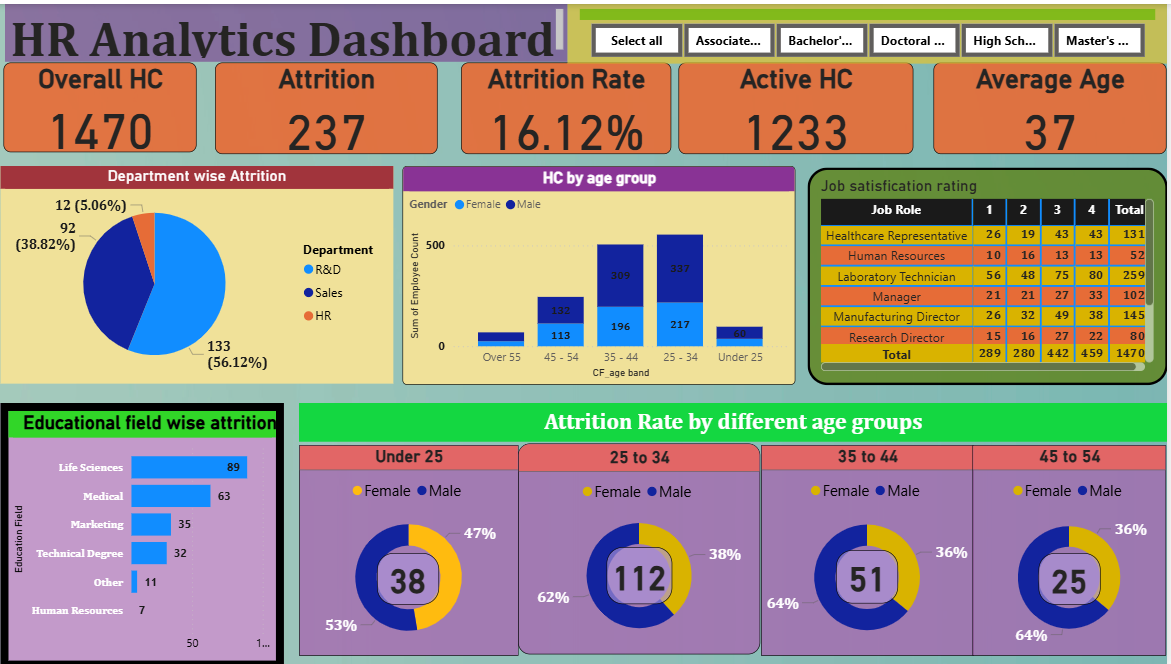

The page's visual inventory and layout, read from the dashboard file:
{"tool":"powerbi","page":{"name":"Page 1","canvas":[1280,720],"ordinal":0},"visuals":[{"type":"card","title":"Overall HC","fields":{"Values":["Sum(HR data.Employee Count)"]},"box":[18.7,63.6,209.5,97.3],"z":0},{"type":"card","title":"Attrition","fields":{"Values":["Sum(HR data.Attrition columns)"]},"box":[246.9,63.6,241.3,99.1],"z":1000},{"type":"card","title":"Attrition Rate","fields":{"Values":["HR data.Attrition %"]},"box":[514.4,63.6,228.2,99.1],"z":2000},{"type":"card","title":"Active HC","fields":{"Values":["HR data.Active employees"]},"box":[750,63.6,254.4,99.1],"z":3000},{"type":"card","title":"Average Age","fields":{"Values":["Avg(HR data.Age)"]},"box":[1026.9,63.6,252.5,99.1],"z":4000},{"type":"pieChart","title":"Department wise Attrition","fields":{"Y":["Sum(HR data.Attrition columns)"],"Category":["HR data.Department"]},"box":[14.6,175.7,426.2,235.8],"z":5000},{"type":"columnChart","title":"HC by age group","fields":{"Category":["HR data.CF_age band"],"Y":["Sum(HR data.Employee Count)"],"Series":["HR data.Gender"]},"box":[450.6,175.7,426.2,237.5],"z":6000},{"type":"pivotTable","title":"Job satisfication rating","fields":{"Columns":["HR data.Job Satisfaction"],"Rows":["HR data.Job Role"],"Values":["Sum(HR data.Employee Count)"]},"box":[889.7,177.3,390.4,235.8],"z":7000},{"type":"barChart","title":"Educational field wise attrition","fields":{"Category":["HR data.Education Field"],"Y":["Sum(HR data.Attrition columns)"]},"box":[14.6,432.7,307.4,287.9],"z":8000},{"type":"donutChart","title":"Under 25","fields":{"Category":["HR data.Gender"],"Y":["Sum(HR data.Attrition columns)"],"Series":["HR data.CF_age band"]},"box":[337.7,478.4,238.2,228.9],"z":9000},{"type":"textbox","box":[338.3,432.7,941.8,42.3],"z":10000},{"type":"donutChart","title":"25 to 34","fields":{"Category":["HR data.Gender"],"Y":["Sum(HR data.Attrition columns)"],"Series":["HR data.CF_age band"]},"box":[575.9,476.5,262.6,228.9],"z":11000},{"type":"donutChart","title":"35 to 44","fields":{"Category":["HR data.Gender"],"Y":["Sum(HR data.Attrition columns)"],"Series":["HR data.CF_age band"]},"box":[838.5,478.4,230.7,228.9],"z":12000},{"type":"donutChart","title":"45 to 54","fields":{"Category":["HR data.Gender"],"Y":["Sum(HR data.Attrition columns)"],"Series":["HR data.CF_age band"]},"box":[1069.3,478.4,210.1,228.9],"z":13000},{"type":"card","fields":{"Values":["Sum(HR data.Attrition columns)"]},"box":[422.7,594.8,67.3,56.1],"z":14000},{"type":"card","fields":{"Values":["Sum(HR data.Attrition columns)"]},"box":[671.5,589.2,71.1,61.7],"z":15000},{"type":"card","fields":{"Values":["Sum(HR data.Attrition columns)"]},"box":[920.8,592.1,67.2,57.9],"z":16000},{"type":"card","fields":{"Values":["Sum(HR data.Attrition columns)"]},"box":[1141,594.8,67.3,56.1],"z":17000},{"type":"textbox","box":[19,0,610.2,62.7],"z":18000},{"type":"slicer","fields":{"Values":["HR data.Education"]},"box":[629.2,0,650.1,64.6],"z":19000}]}

Visuals, with their boxes in screenshot pixels (x1, y1, x2, y2), scaled from the page's 1280x720 canvas onto the 1171x664 screenshot:
"Overall HC" card: BBox(17, 59, 209, 148)
"Attrition" card: BBox(226, 59, 447, 150)
"Attrition Rate" card: BBox(471, 59, 679, 150)
"Active HC" card: BBox(686, 59, 919, 150)
"Average Age" card: BBox(939, 59, 1170, 150)
"Department wise Attrition" pieChart: BBox(13, 162, 403, 379)
"HC by age group" columnChart: BBox(412, 162, 802, 381)
"Job satisfication rating" pivotTable: BBox(814, 164, 1170, 381)
"Educational field wise attrition" barChart: BBox(13, 399, 295, 663)
"Under 25" donutChart: BBox(309, 441, 527, 652)
textbox: BBox(309, 399, 1170, 438)
"25 to 34" donutChart: BBox(527, 439, 767, 651)
"35 to 44" donutChart: BBox(767, 441, 978, 652)
"45 to 54" donutChart: BBox(978, 441, 1170, 652)
card - Sum(HR data.Attrition columns): BBox(387, 549, 448, 600)
card - Sum(HR data.Attrition columns): BBox(614, 543, 679, 600)
card - Sum(HR data.Attrition columns): BBox(842, 546, 904, 599)
card - Sum(HR data.Attrition columns): BBox(1044, 549, 1105, 600)
textbox: BBox(17, 0, 576, 58)
slicer - HR data.Education: BBox(576, 0, 1170, 60)
